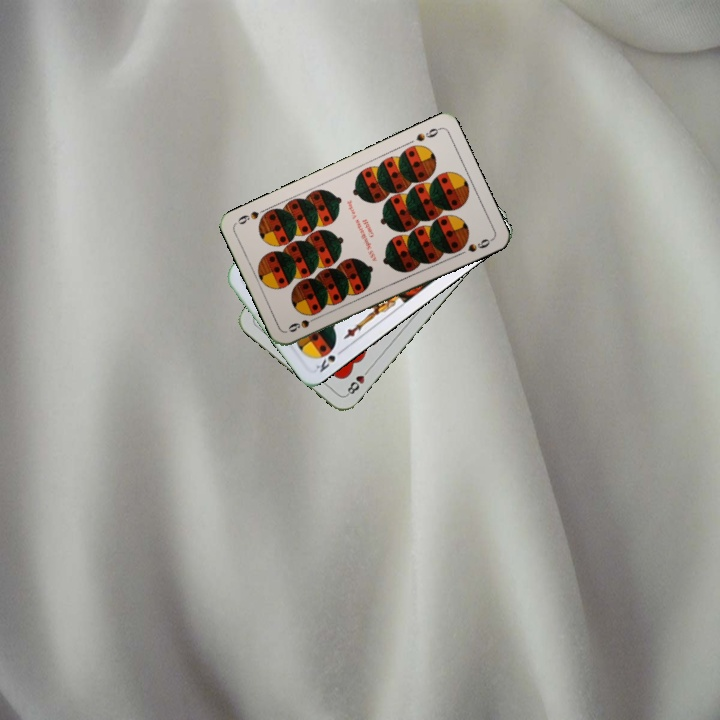H8: (342, 364, 373, 398)
S9: (284, 312, 322, 335), (412, 124, 443, 144)
SK: (312, 342, 347, 375)
